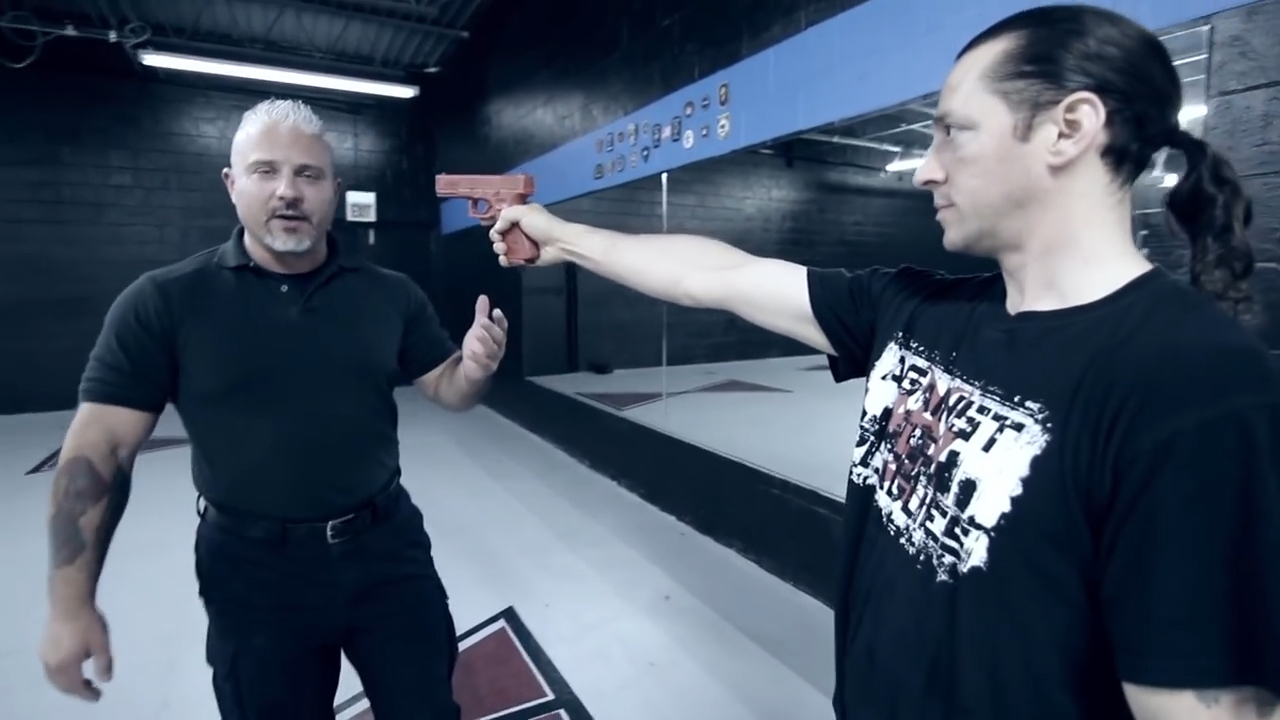pistol: (433, 170, 542, 267)
